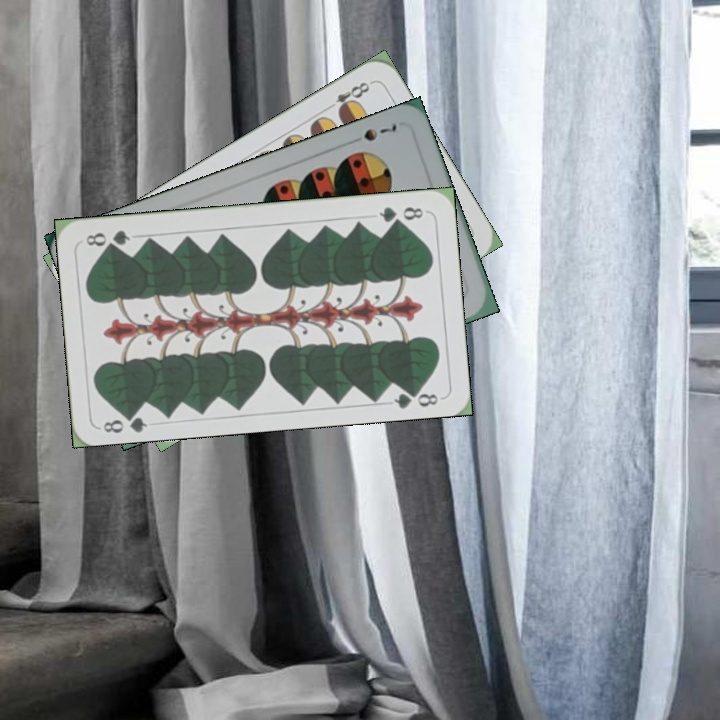E8: (321, 77, 375, 117)
G8: (99, 407, 150, 436), (375, 202, 426, 226)
S7: (345, 120, 400, 147)
